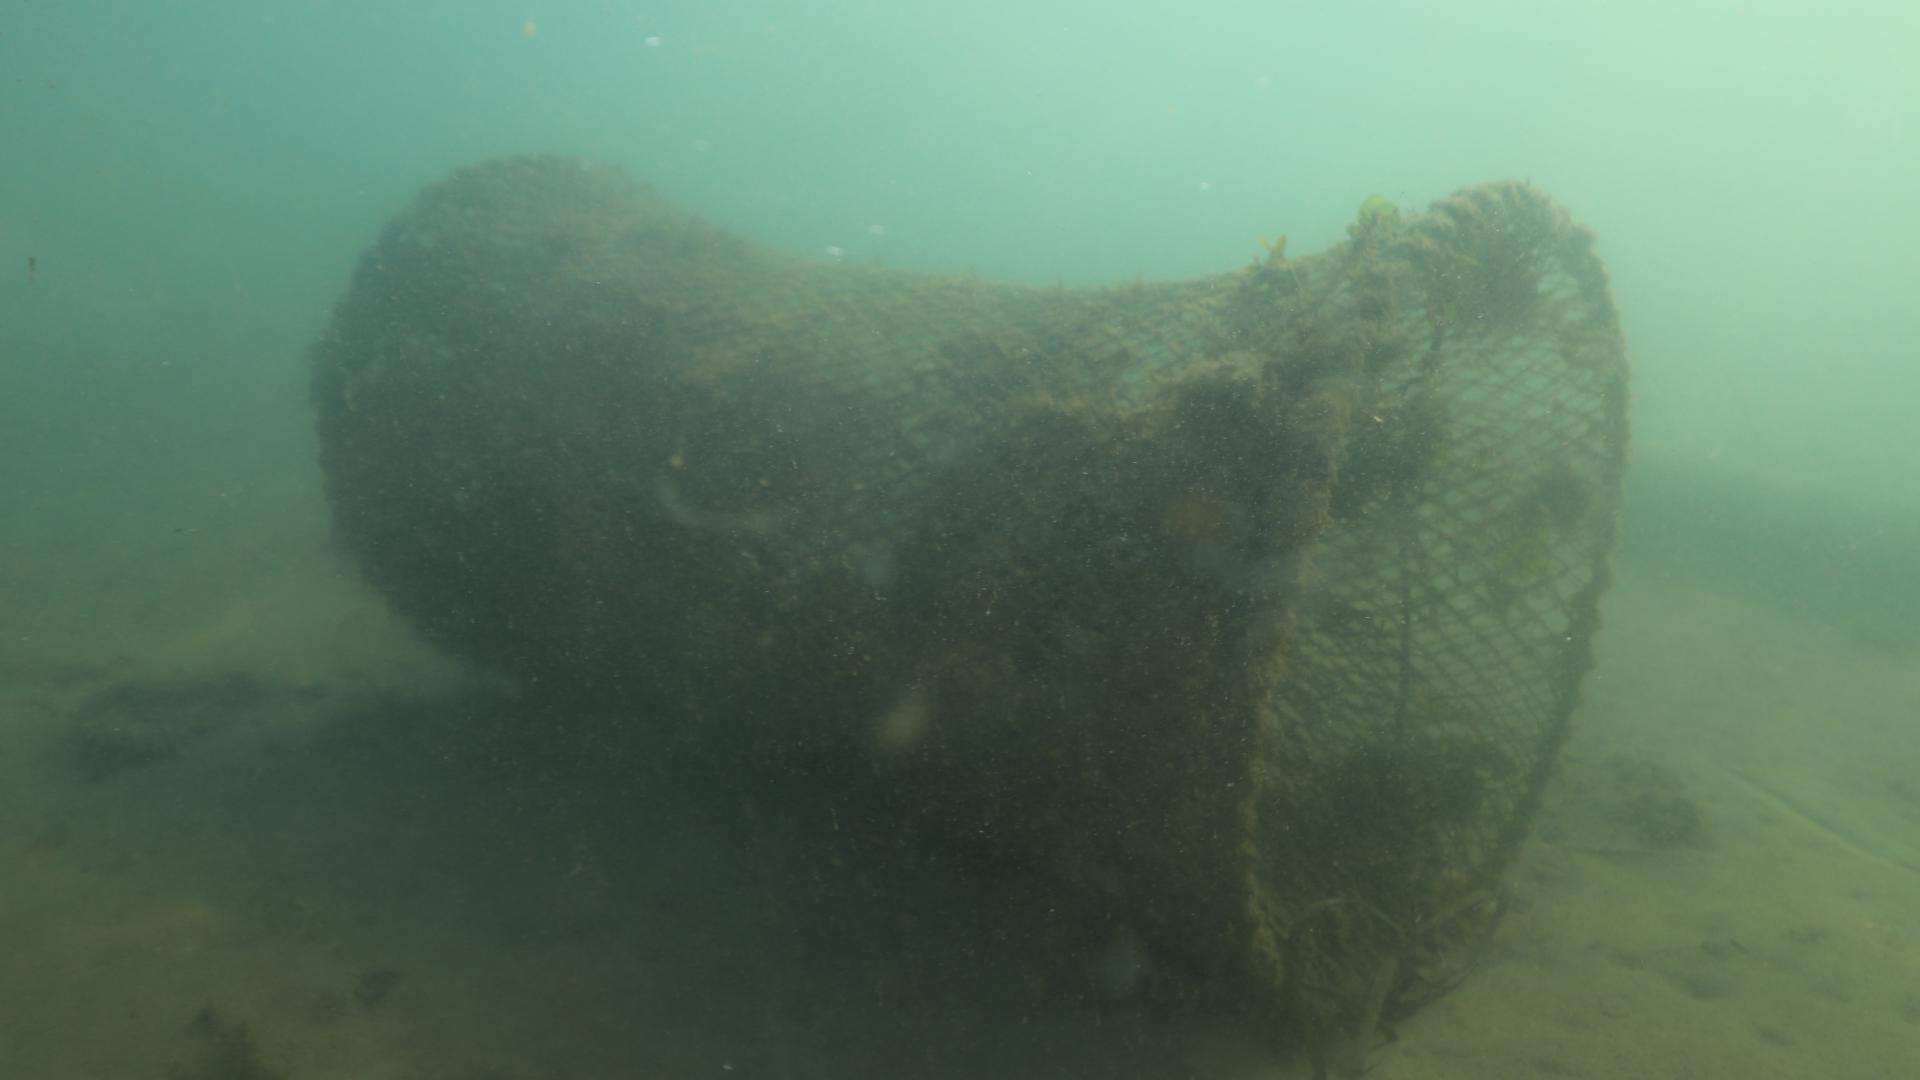spring fish trap: (309, 146, 1633, 1036)
